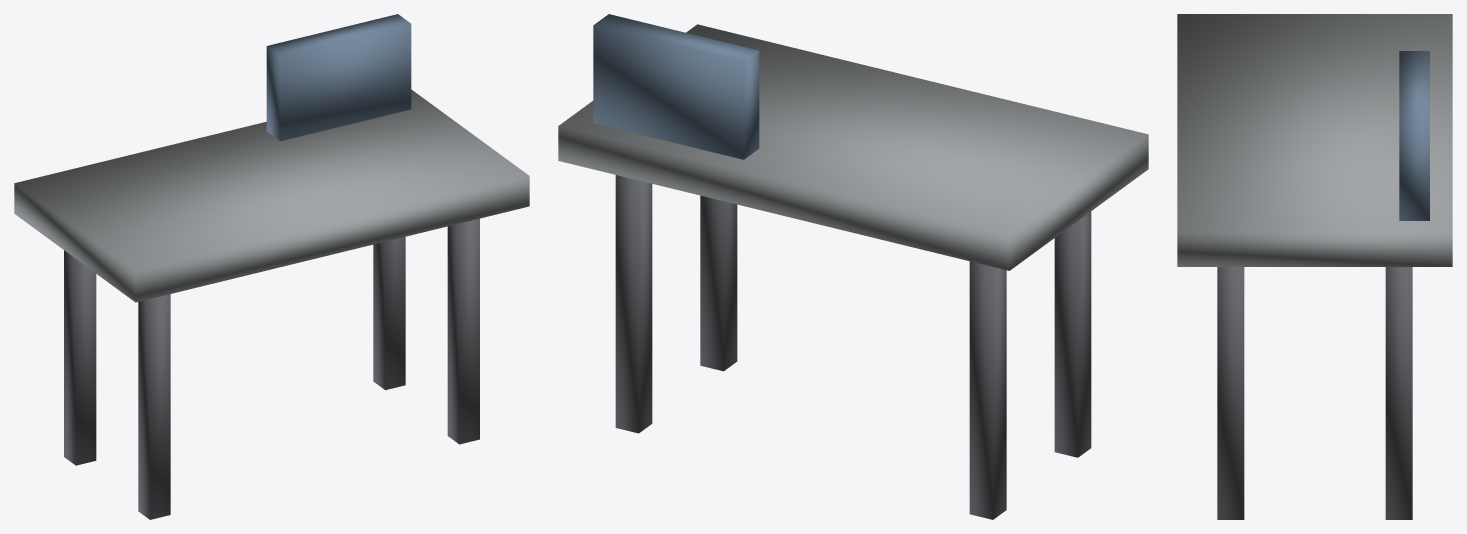
Rendered from welding_table.glb.
The picture shows the model from 3 angles, left to right: view 1: azimuth 30°, elevation 25°; view 2: azimuth 150°, elevation 25°; view 3: azimuth 270°, elevation 25°; orthographic projection. The views are drawn at different scales.
Visible parts, largest first — view 1: world; view 2: world; view 3: world.
Part boxes in pixels (x1=…): world: x1=14, y1=14, x2=529, y2=519; world: x1=558, y1=14, x2=1148, y2=519; world: x1=1177, y1=14, x2=1452, y2=519.
Bounding box in the file's own units: 1.35 × 1.16 × 0.72.
